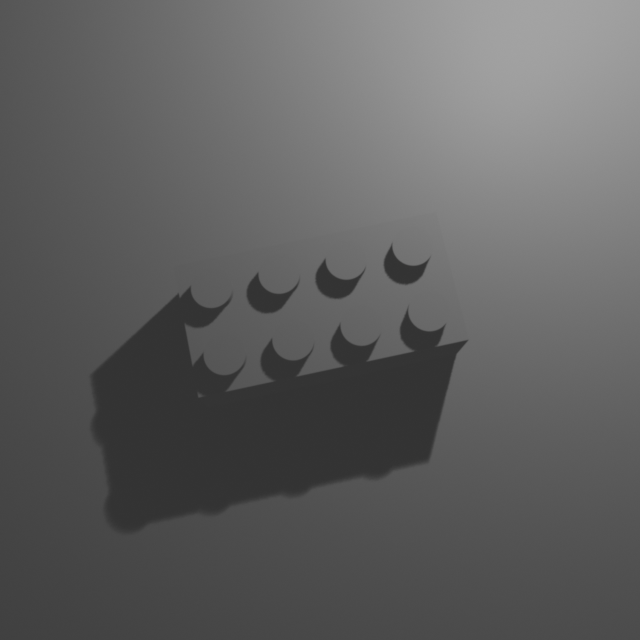lego_2x4: (172, 207, 471, 407)
